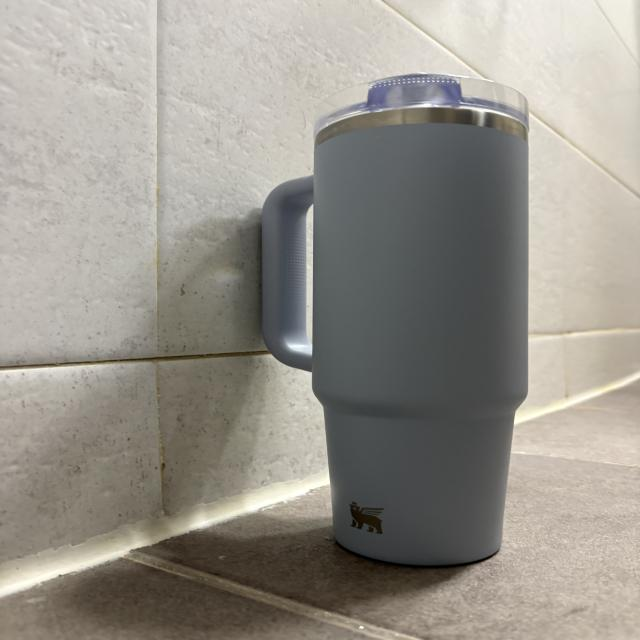waterbottle: (263, 74, 527, 564)
